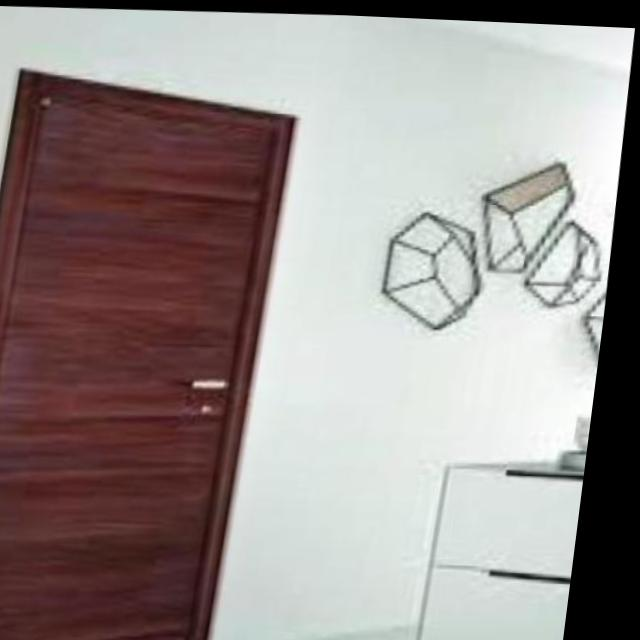door_handle: (190, 367, 250, 395)
